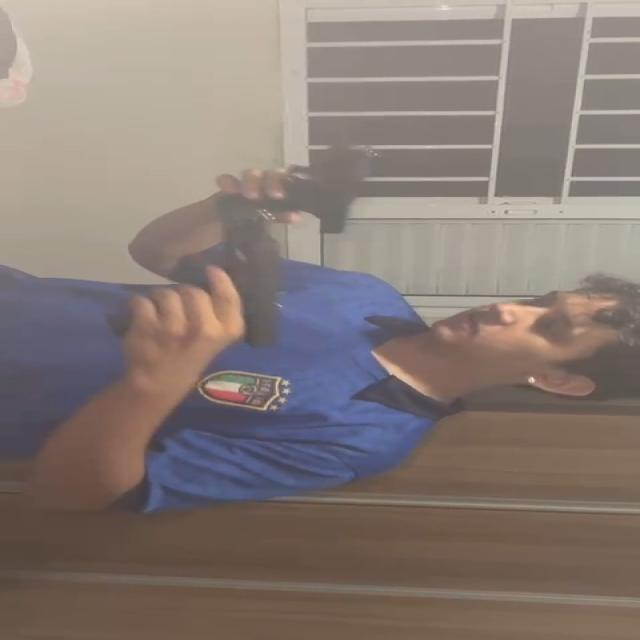gun: (217, 194, 286, 346), (284, 142, 378, 228)
